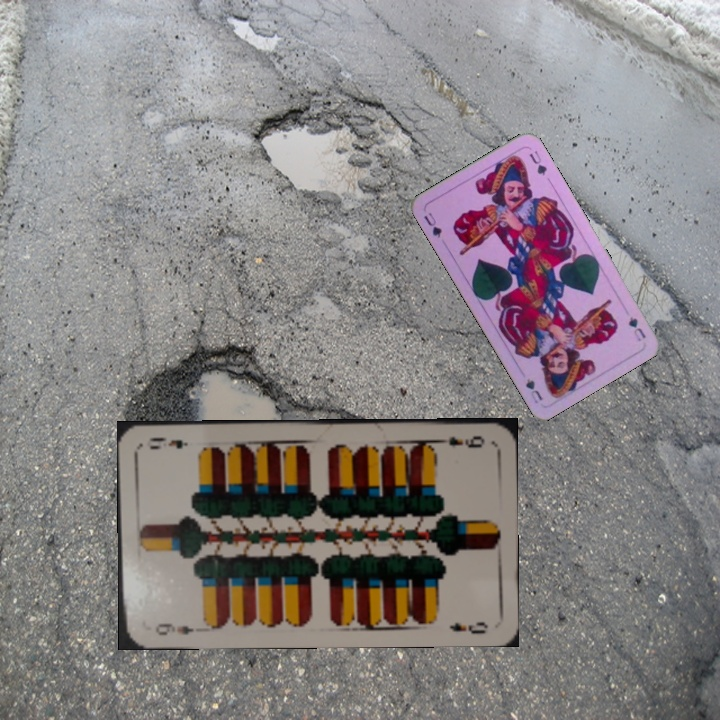E9: (432, 431, 487, 450), (151, 619, 196, 638)
GU: (624, 312, 649, 344), (420, 208, 444, 241)
